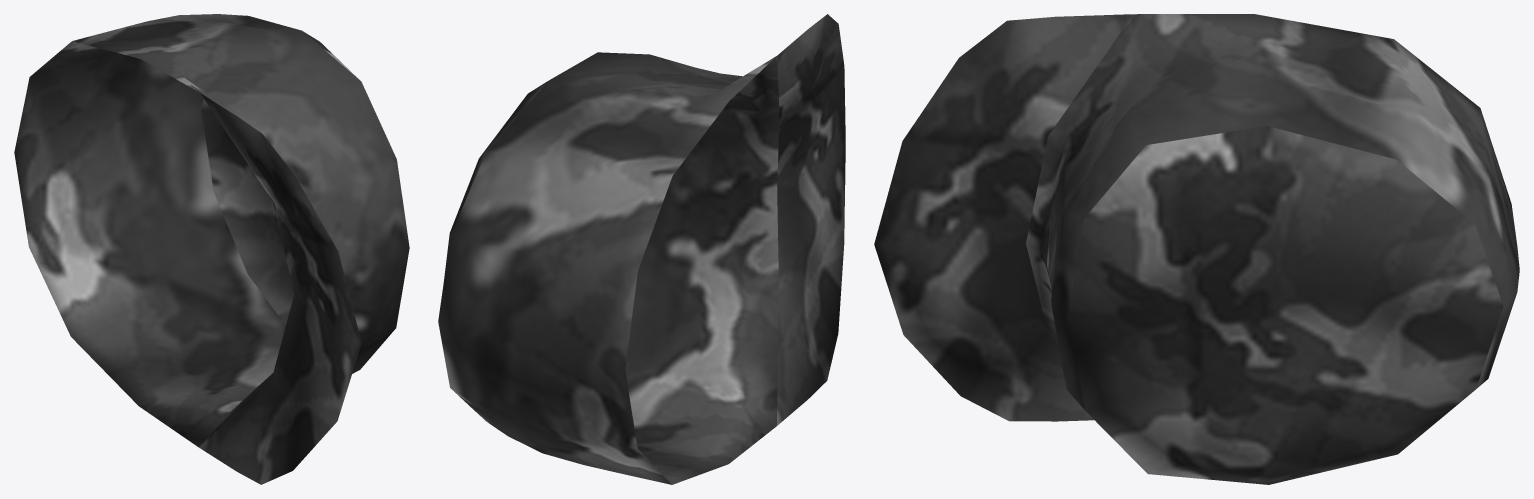
Rendered from ArmyHat_F.fbx.
3 views of the same model, side by side, from view 1: azimuth 30°, elevation 25°; view 2: azimuth 150°, elevation 25°; view 3: azimuth 270°, elevation 25° (orthographic). The views are drawn at different scales.
Parts seen in each view (by area): view 1: Circle; view 2: Circle; view 3: Circle.
Part boxes in pixels (<box>): Circle: <box>14,14,409,484</box>; Circle: <box>438,14,845,484</box>; Circle: <box>874,14,1519,484</box>.
Size of the model in its own units: 0.0917 by 0.1472 by 0.2125.
